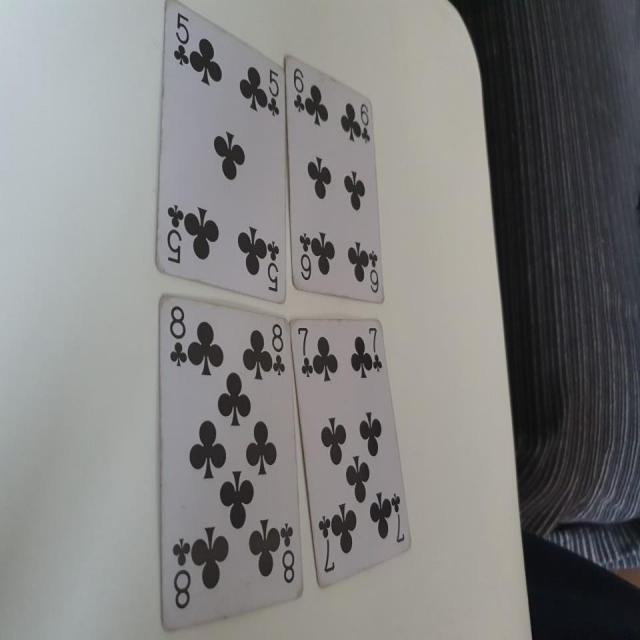5 Trefoils: (153, 1, 292, 302)
6 Trefoils: (282, 50, 387, 301)
7 Trefoils: (291, 314, 414, 588)
8 Trefoils: (156, 294, 304, 632)
